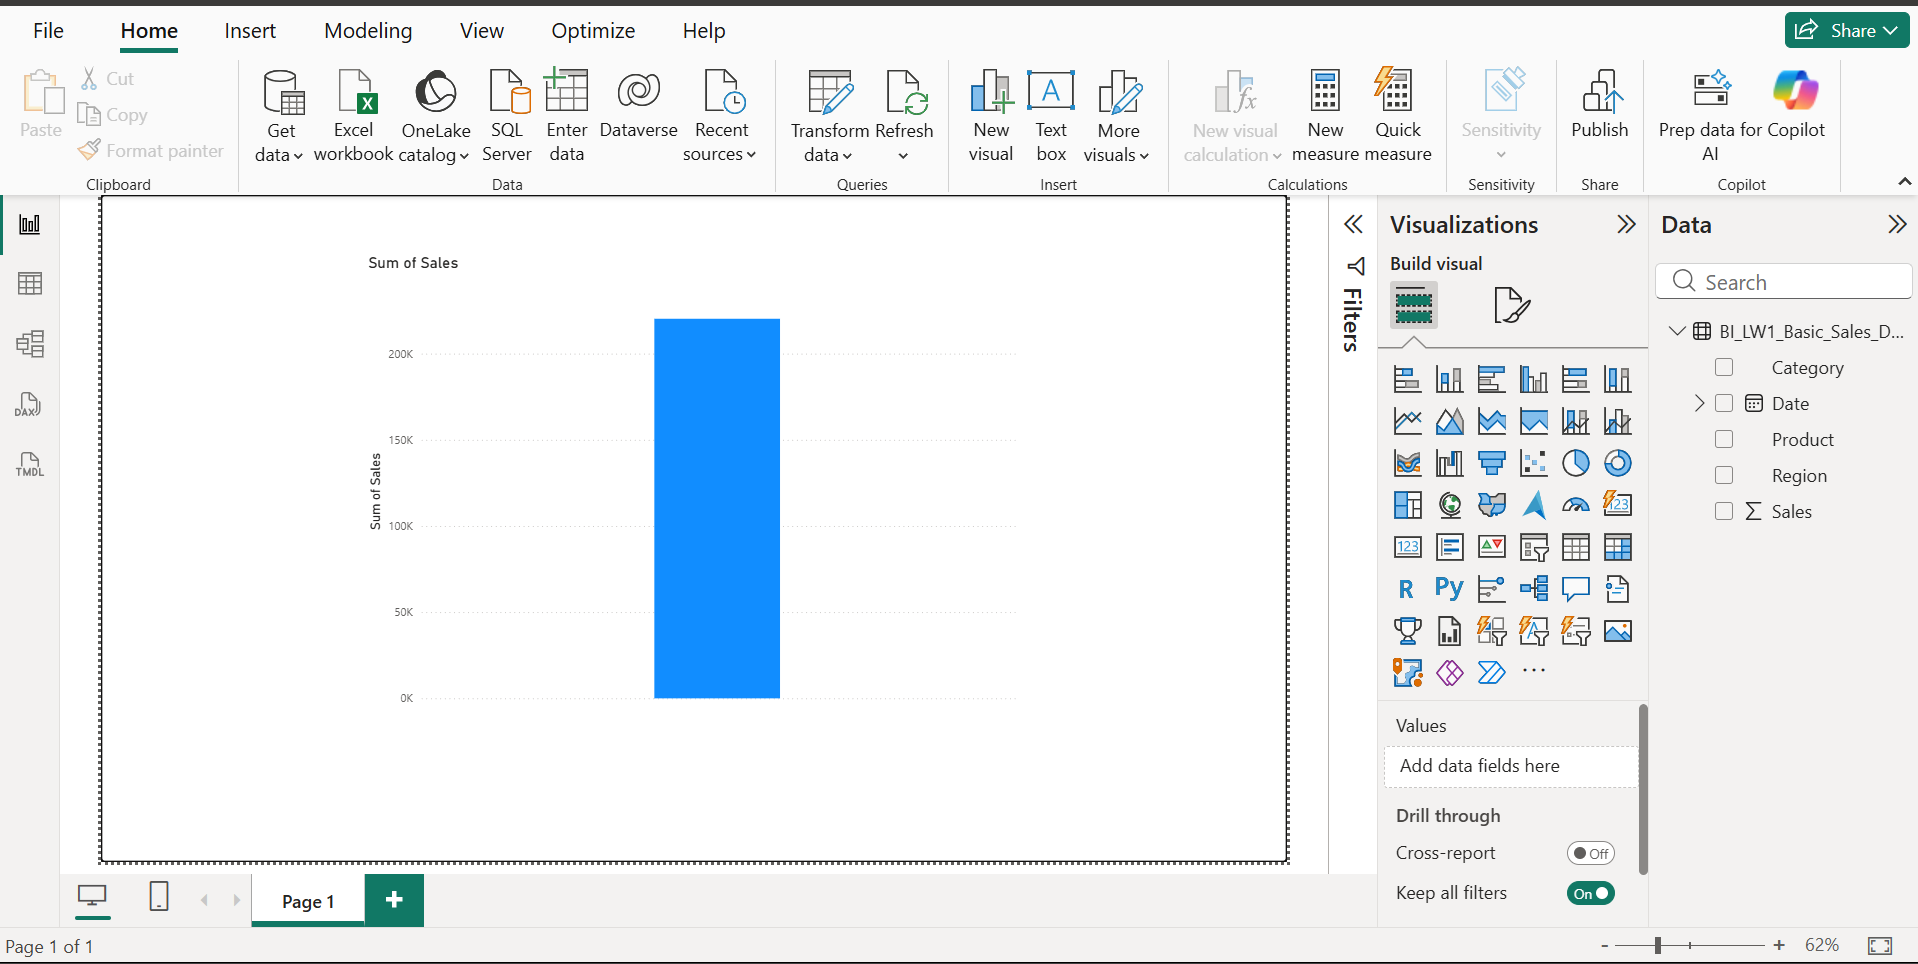

The dashboard page shown, as its layout file describes it:
{"tool":"powerbi","page":{"name":"Page 1","canvas":[1280,720],"ordinal":0},"visuals":[{"type":"clusteredColumnChart","fields":{"Y":["Sum(BI_LW1_Basic_Sales_Data.Sales)"]},"box":[206.9,65.1,837.4,590.2],"z":0}]}

Visuals, with their boxes on the page's 1280x720 design canvas (x1, y1, x2, y2). These are canvas units, not pixel positions in the 1918x964 screenshot, which may show the page scaled, cropped or inside an application window:
clusteredColumnChart - Sum(BI_LW1_Basic_Sales_Data.Sales): bbox(207, 65, 1044, 655)
